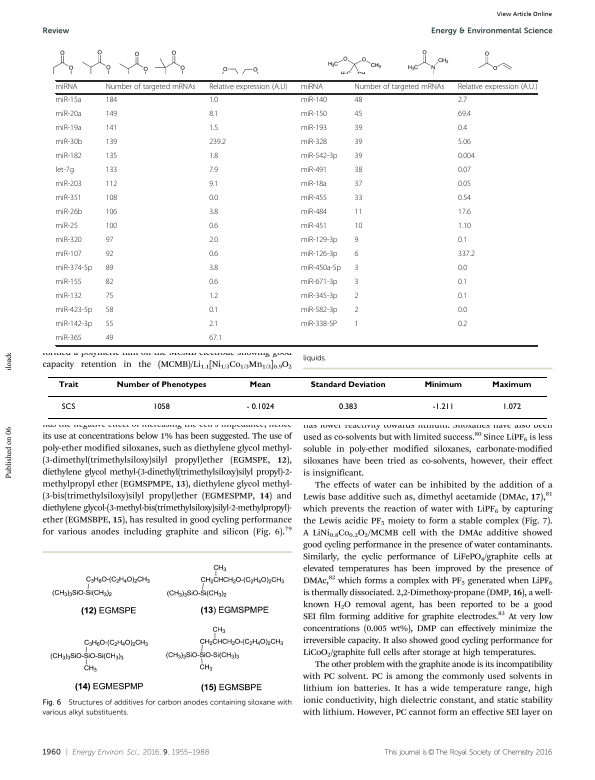borderless: (54, 79, 537, 345), (47, 375, 547, 418)
cell: (353, 83, 445, 92), (115, 380, 207, 389), (105, 83, 196, 92), (457, 83, 538, 92), (208, 83, 288, 92), (309, 380, 386, 389), (300, 264, 342, 274), (300, 152, 338, 162), (300, 236, 338, 246), (300, 250, 338, 260), (55, 264, 93, 274), (300, 278, 338, 288), (300, 292, 338, 302), (55, 306, 93, 316), (300, 306, 338, 316), (55, 320, 93, 330), (300, 320, 338, 330), (491, 380, 532, 389), (423, 380, 462, 389), (300, 96, 328, 106), (300, 110, 328, 120), (300, 124, 328, 134), (55, 138, 83, 148), (300, 138, 328, 148), (300, 166, 328, 176), (300, 180, 328, 190), (300, 194, 328, 204), (55, 208, 83, 218), (300, 208, 328, 218), (300, 222, 328, 232), (55, 96, 82, 106), (55, 110, 82, 120), (55, 124, 82, 134), (55, 152, 82, 162), (55, 180, 82, 190), (55, 194, 82, 204), (55, 236, 82, 246), (55, 250, 82, 260), (55, 278, 82, 288), (55, 292, 82, 302), (55, 334, 82, 344), (55, 222, 79, 232), (245, 402, 275, 410), (300, 83, 324, 92), (55, 83, 78, 92), (248, 380, 271, 389), (55, 166, 75, 176), (57, 380, 79, 389), (208, 138, 227, 148), (457, 152, 476, 162), (457, 250, 476, 260), (431, 402, 454, 410), (501, 402, 522, 410), (338, 402, 358, 410), (457, 110, 472, 120), (457, 138, 472, 148), (457, 166, 472, 176), (457, 180, 472, 190), (457, 194, 472, 204), (457, 208, 472, 218), (457, 222, 472, 232), (208, 334, 223, 344), (152, 402, 170, 410), (105, 96, 118, 106), (105, 110, 118, 120), (105, 124, 118, 134), (105, 138, 118, 148), (105, 152, 118, 162), (105, 166, 118, 176), (105, 180, 118, 190), (105, 194, 118, 204), (105, 208, 118, 218), (105, 222, 118, 232), (60, 402, 76, 410), (208, 96, 219, 106), (457, 96, 468, 106), (208, 110, 219, 120), (208, 124, 219, 134), (457, 124, 468, 134), (208, 152, 219, 162), (208, 166, 219, 176), (208, 180, 219, 190), (208, 194, 219, 204), (208, 208, 219, 218), (208, 222, 219, 232), (208, 236, 219, 246), (457, 236, 468, 246), (208, 250, 219, 260), (208, 264, 219, 274), (457, 264, 468, 274), (208, 278, 219, 288), (457, 278, 468, 288), (208, 292, 219, 302), (457, 292, 468, 302), (208, 306, 219, 316), (457, 306, 468, 316), (208, 320, 219, 330), (457, 320, 468, 330), (353, 96, 363, 106), (353, 110, 363, 120), (353, 124, 363, 134), (353, 138, 363, 148), (353, 152, 363, 162), (353, 166, 363, 176), (353, 180, 363, 190), (353, 194, 363, 204), (353, 208, 363, 218), (353, 222, 363, 232), (105, 236, 114, 246), (105, 250, 114, 260), (105, 264, 114, 274), (105, 278, 114, 288), (105, 292, 114, 302), (105, 306, 114, 316), (105, 320, 114, 330), (105, 334, 114, 344), (353, 236, 359, 246), (353, 250, 359, 260), (353, 264, 359, 274), (353, 278, 359, 288), (353, 292, 359, 302), (353, 306, 359, 316), (353, 320, 359, 330)
